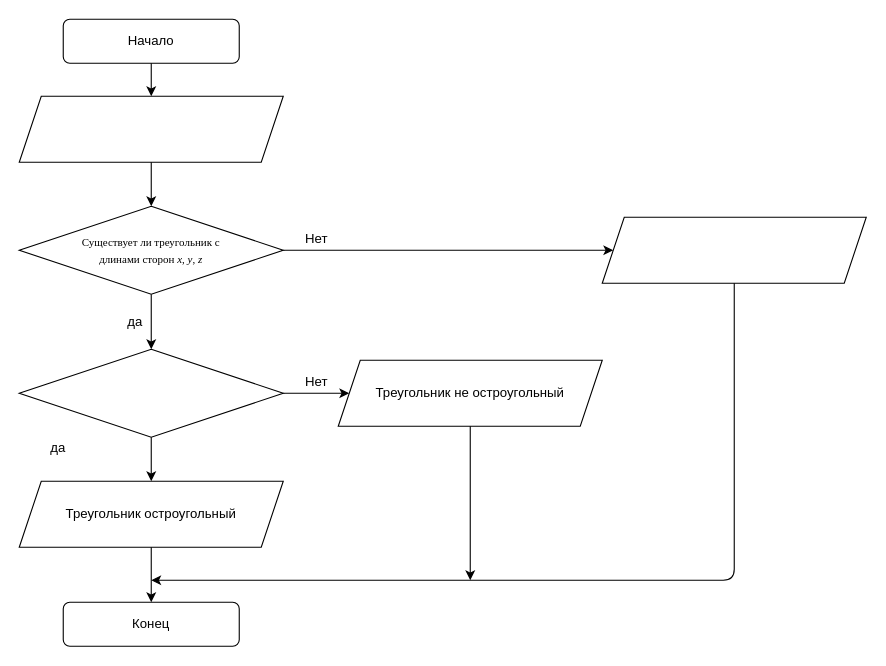
This 886x666 diagram has some shape labels left out. The box of each missing label's shape, as (x1, y1, x2, y2) in pixels:
Ввод x,y,z: (18, 95, 283, 162)
Треугольника не существует: (601, 216, 866, 283)
является ли треугольник остроугольным: (18, 348, 283, 437)
